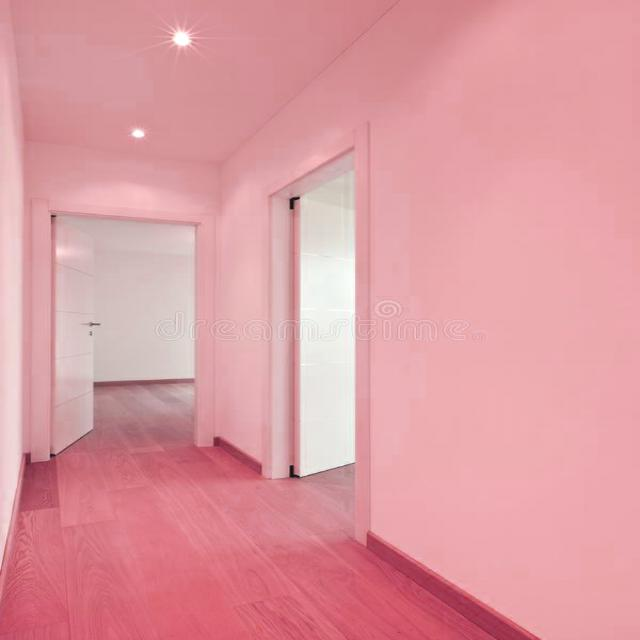door: (29, 192, 222, 467), (271, 116, 397, 520)
